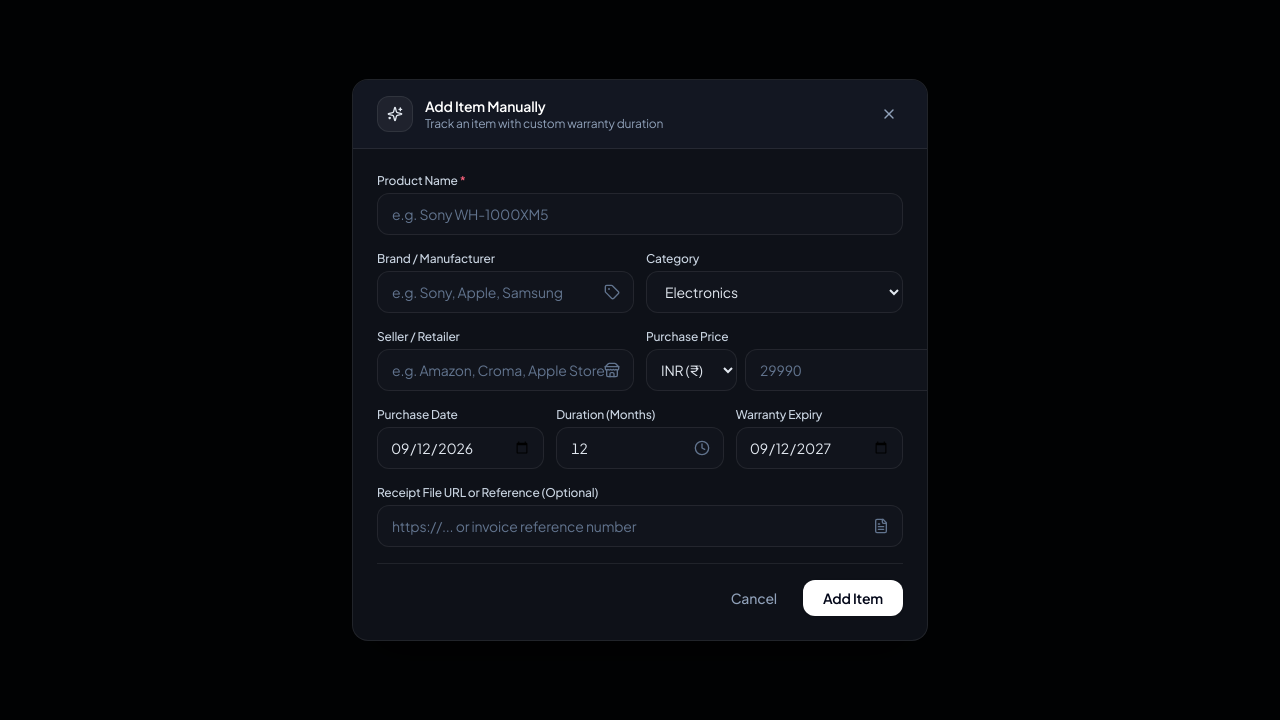
Test: ItemFormModal Component › updates warranty months when category changes to Appliances (24 months)
Select "Appliances" in the dropdown labelled "Category" at (774, 292), box [646,271,903,313]
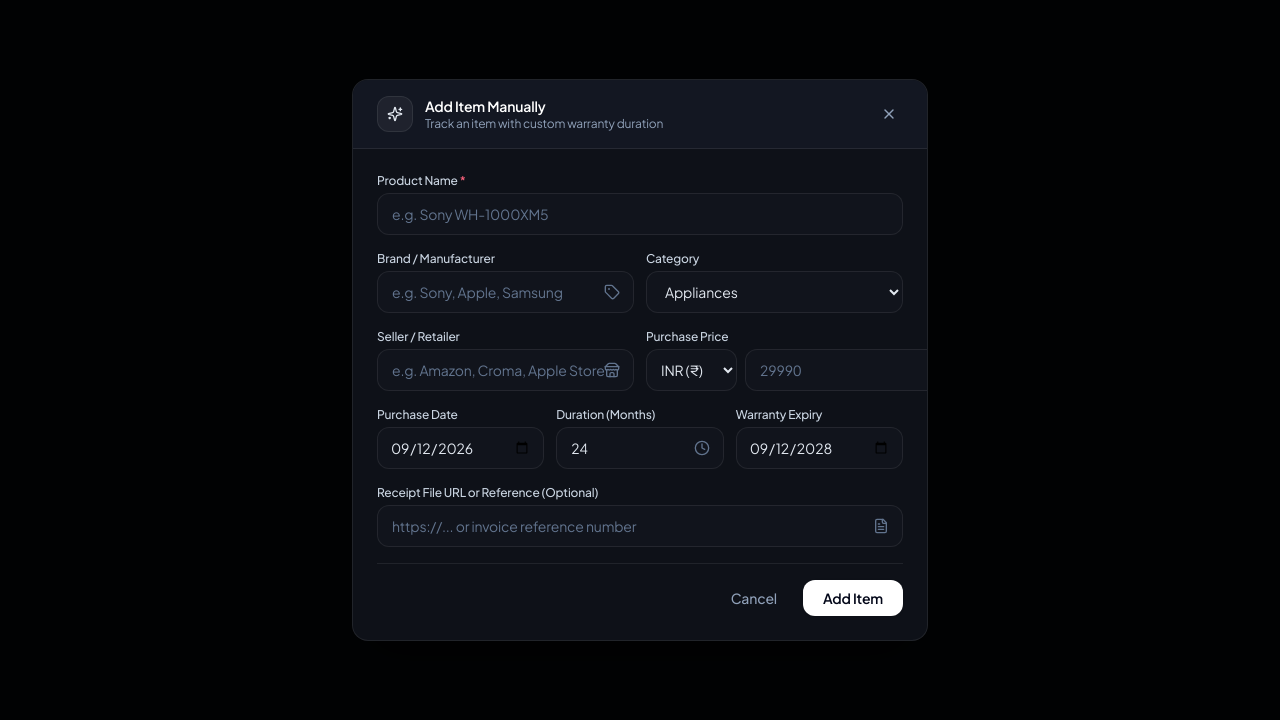
Now the number field with placeholder "12" holds "24", box [556,427,724,469]
